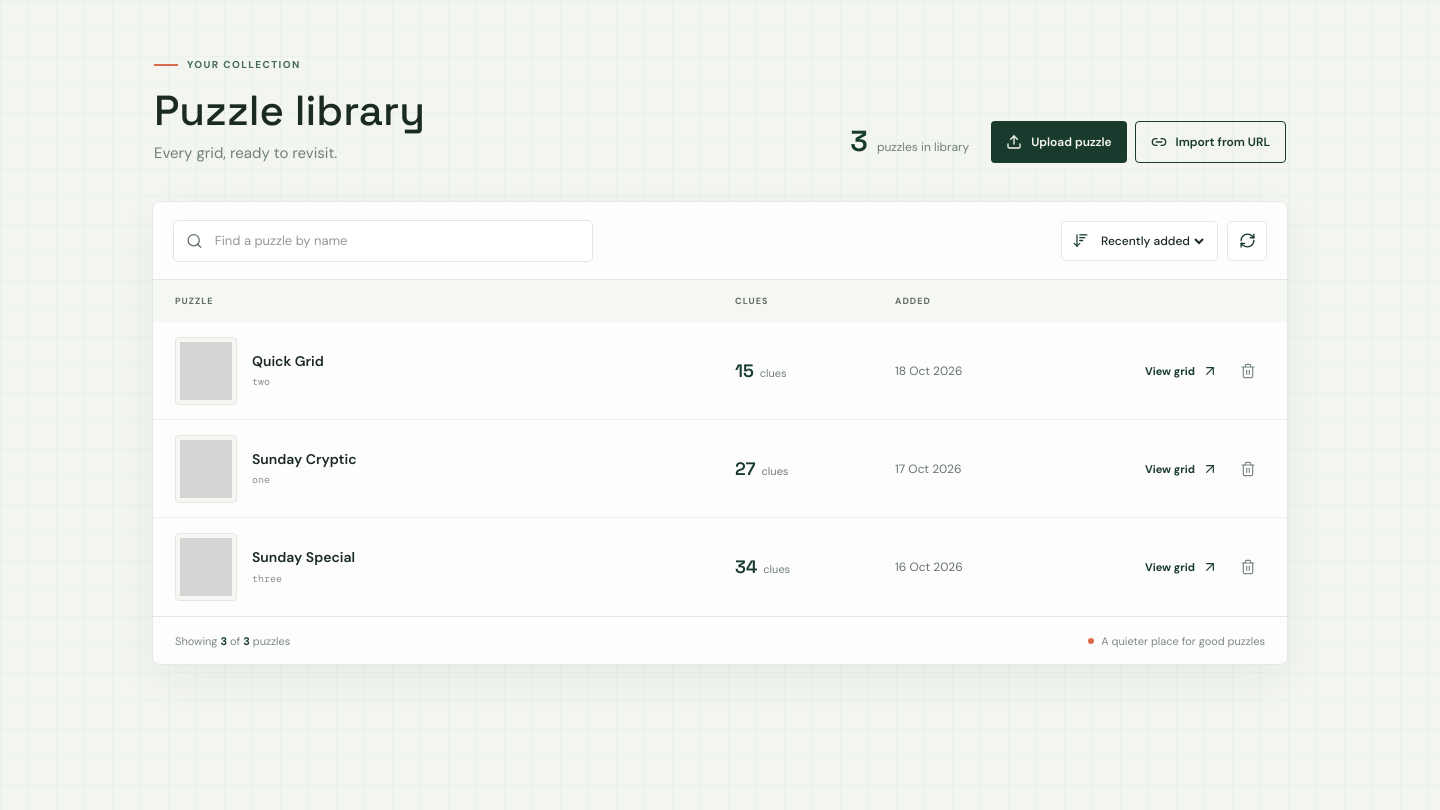
filters puzzles by name
In the search field named "Search puzzles": (396,240) [213,231,580,250], type "sunday"
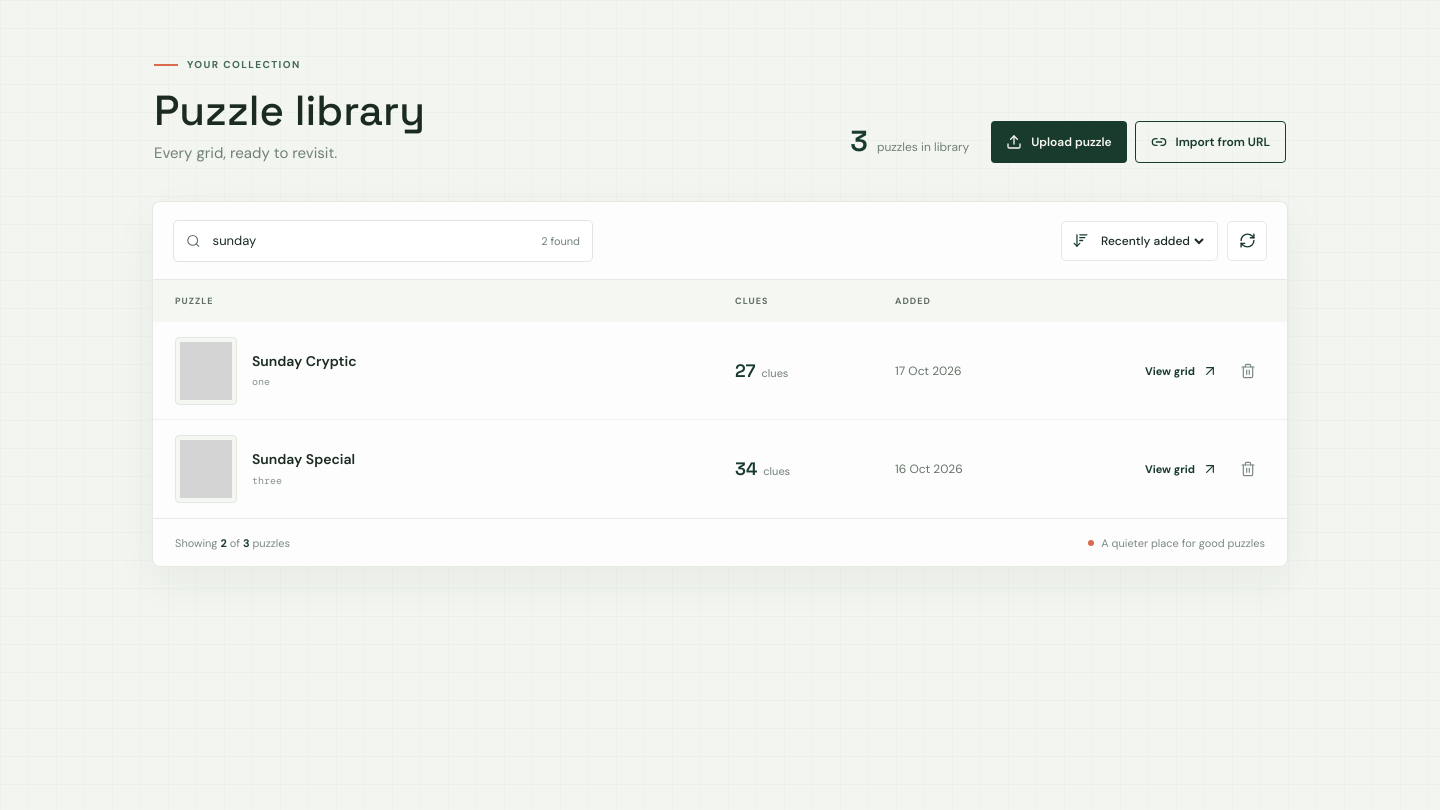
Expected: the heading "Sunday Cryptic" is shown, [252,352,357,370]
Result: the heading "Quick Grid" is gone
